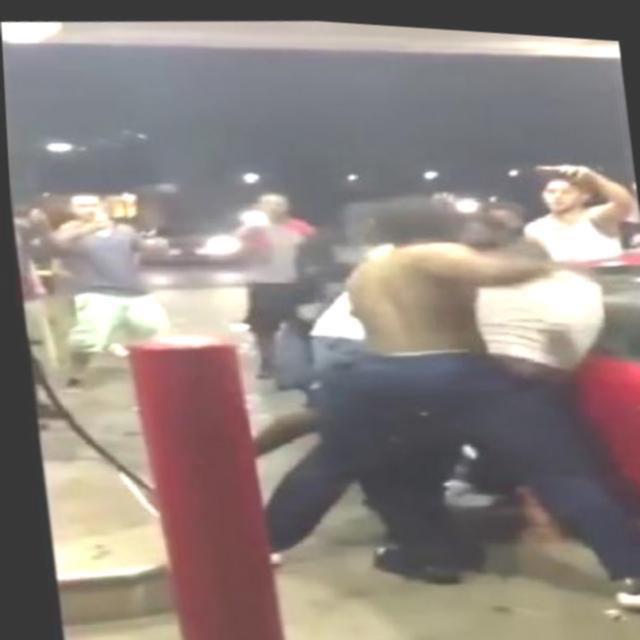fight: (279, 180, 629, 540)
